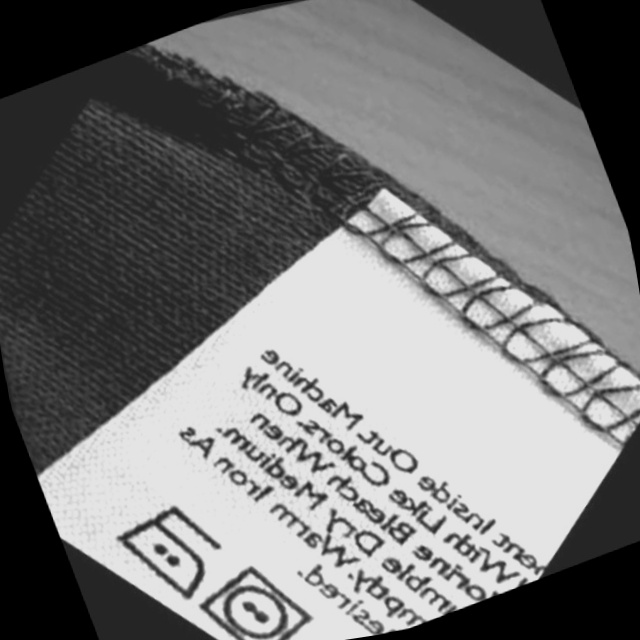iron_medium: (87, 477, 247, 630)
tumble_dry_medium: (172, 537, 330, 640)
